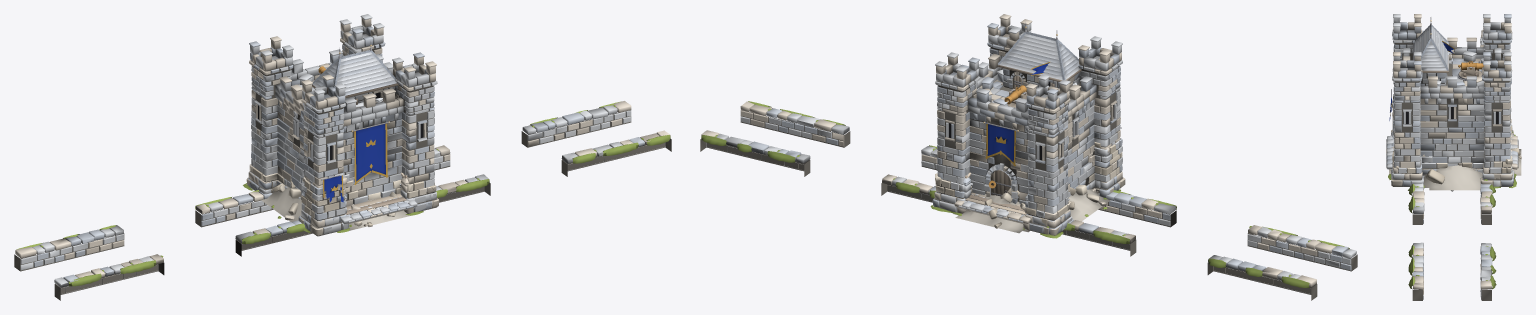
Rendered from towers-32f74df9.glb.
The picture shows the model from 3 angles, left to right: view 1: azimuth 30°, elevation 25°; view 2: azimuth 150°, elevation 25°; view 3: azimuth 270°, elevation 25°; orthographic projection. The views are drawn at different scales.
Parts seen in each view (by area): view 1: king-keep, river-mesh, king-rubble-mesh, bridge-b-mesh, bridge-mesh; view 2: king-keep, river-mesh, king-rubble-mesh, bridge-b-mesh, bridge-mesh, princess-tower; view 3: king-keep, river-mesh, king-rubble-mesh, princess-tower, bridge-b-mesh, king-cannon-mount, king-cannon-barrel, bridge-mesh.
Part boxes in pixels (left/top/right/bottom): king-keep: left=243, top=14, right=438, bottom=236; river-mesh: left=14, top=101, right=671, bottom=300; king-rubble-mesh: left=246, top=164, right=439, bottom=235; bridge-b-mesh: left=341, top=172, right=417, bottom=224; bridge-mesh: left=345, top=177, right=414, bottom=223; king-keep: left=930, top=14, right=1124, bottom=238; river-mesh: left=700, top=101, right=1357, bottom=300; king-rubble-mesh: left=935, top=127, right=1125, bottom=235; bridge-b-mesh: left=954, top=172, right=1030, bottom=223; bridge-mesh: left=957, top=177, right=1028, bottom=223; princess-tower: left=981, top=62, right=1077, bottom=110; king-keep: left=1388, top=14, right=1516, bottom=188; river-mesh: left=1408, top=30, right=1496, bottom=300; king-rubble-mesh: left=1389, top=89, right=1521, bottom=190; princess-tower: left=1428, top=41, right=1483, bottom=97; bridge-b-mesh: left=1387, top=135, right=1517, bottom=191; king-cannon-mount: left=1458, top=62, right=1482, bottom=79; king-cannon-barrel: left=1458, top=61, right=1483, bottom=69; bridge-mesh: left=1386, top=137, right=1518, bottom=168.
Size of the model in its own units: 20.6 by 5.77 by 4.61.
